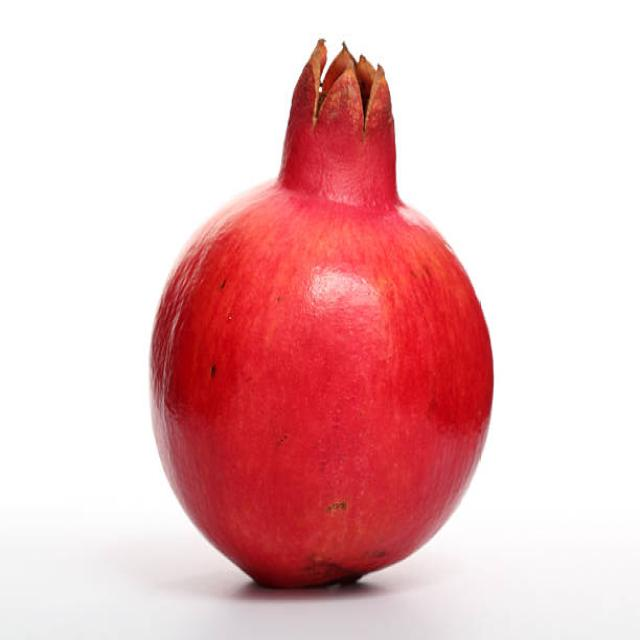Ripe: (146, 26, 498, 588)
